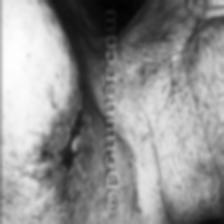Potentially Malignant Skin Tumors: (52, 76, 94, 180)
